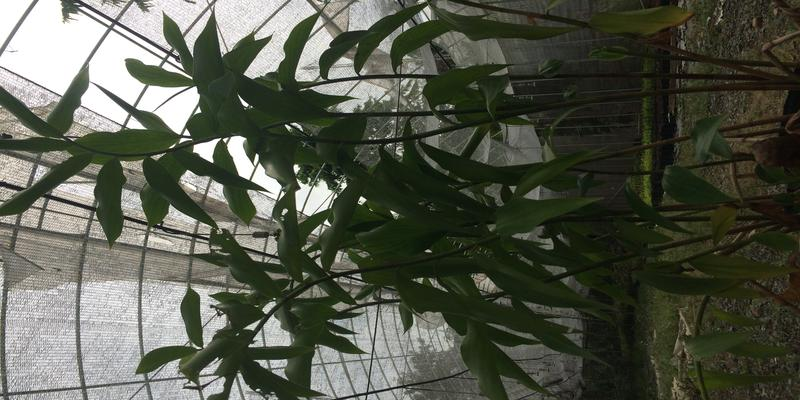Insulin: (163, 47, 784, 313)
